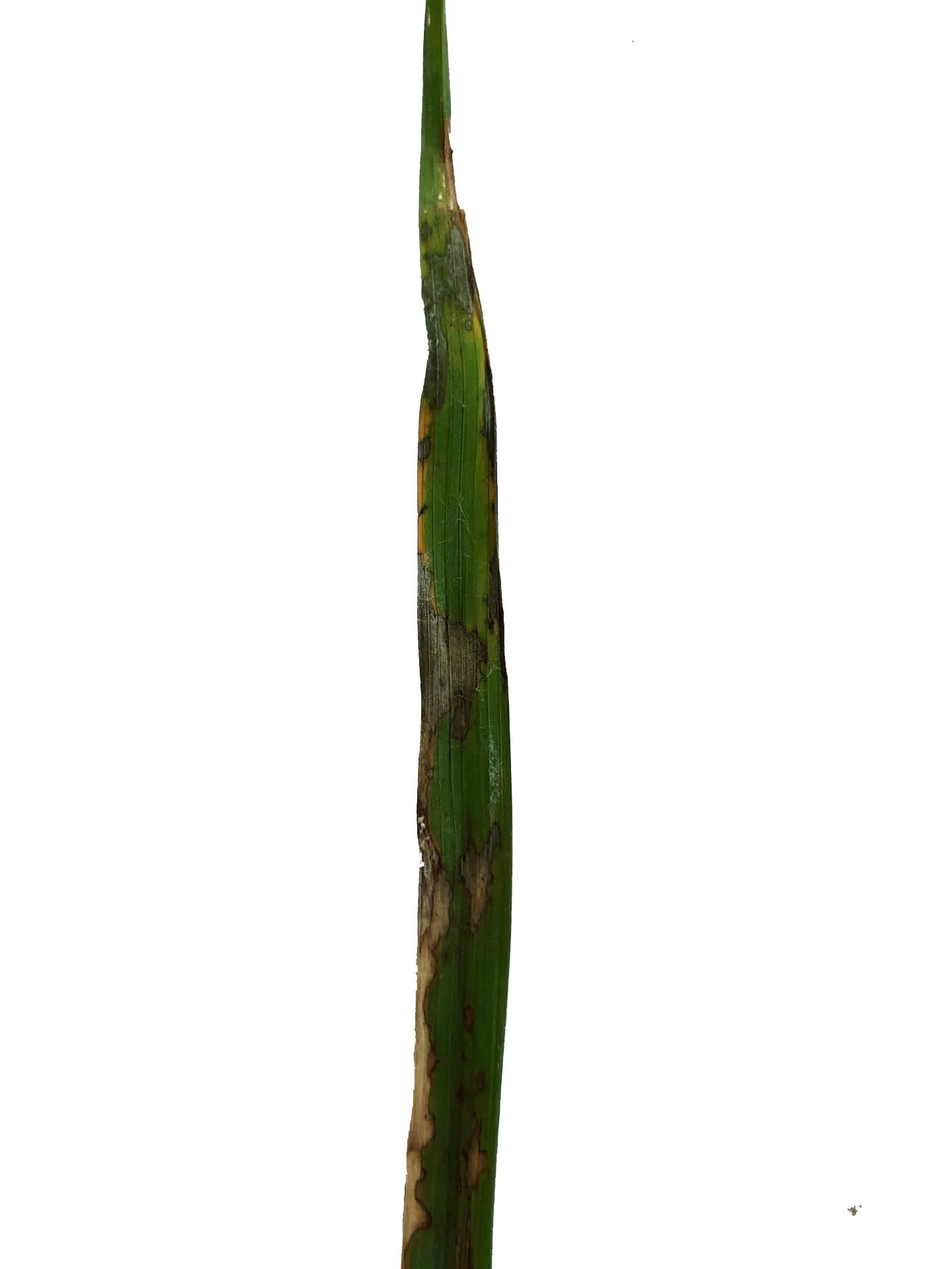Blight: (407, 516, 489, 770), (420, 826, 506, 991), (413, 142, 486, 307), (403, 1005, 443, 1252)
